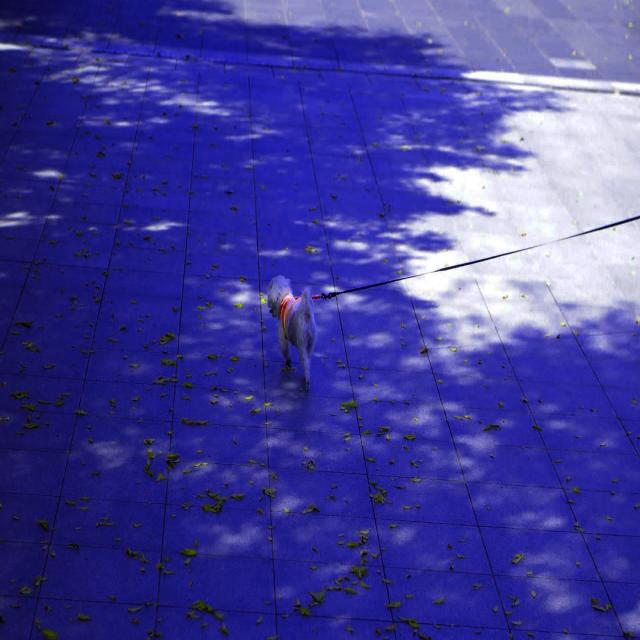Dog: (267, 270, 320, 394)
